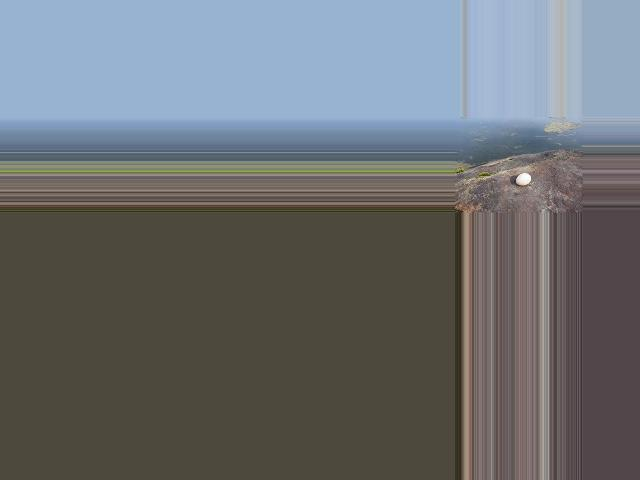egg: (516, 173, 532, 185)
